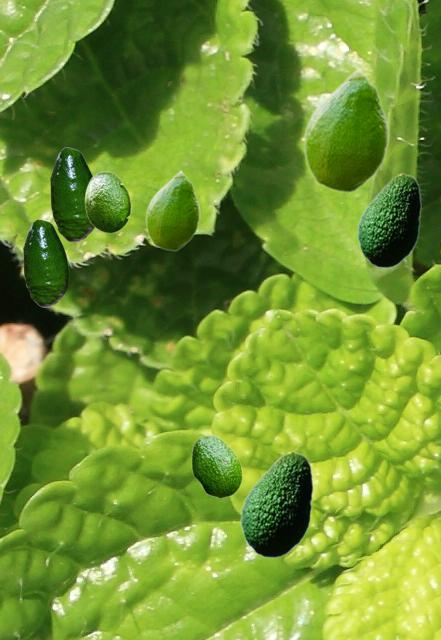avocado: (303, 66, 388, 192), (240, 451, 312, 557), (357, 173, 420, 267), (145, 169, 199, 250), (50, 147, 94, 241), (23, 219, 68, 306), (191, 434, 241, 497), (84, 171, 130, 232)
